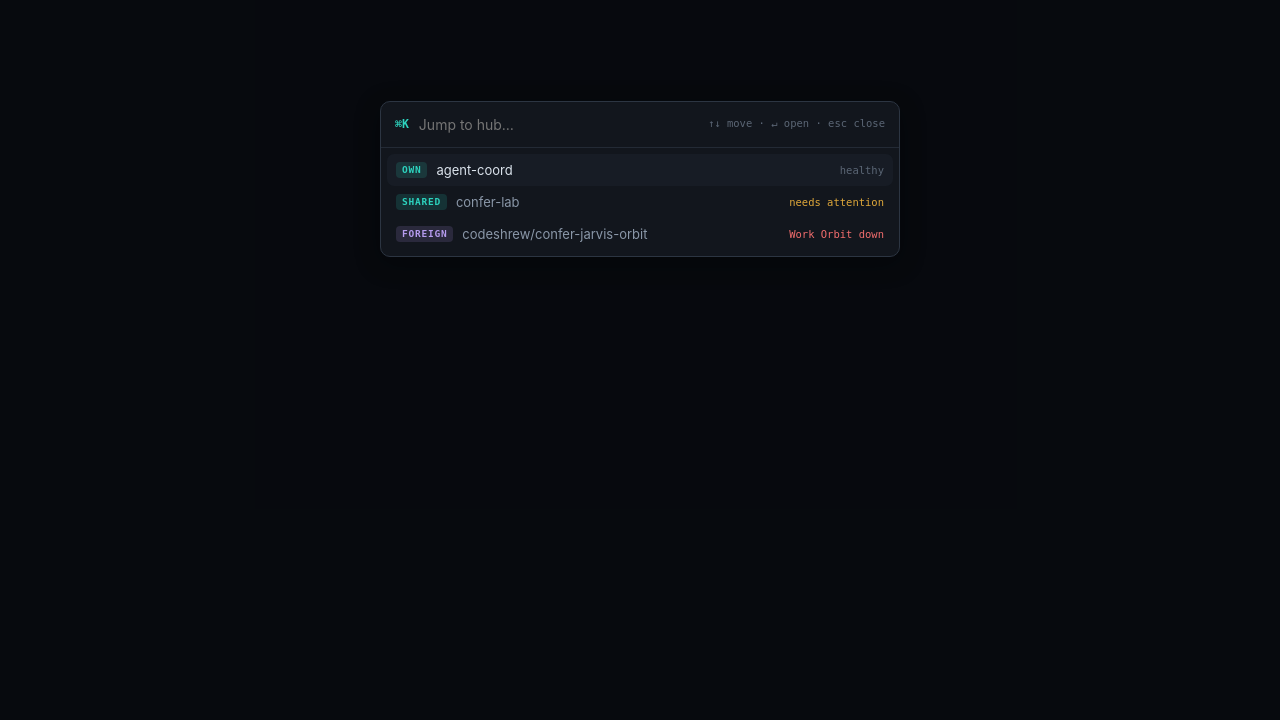
CommandPalette › fuzzy-filters as you type — "orb" ranks the orbit hub's tight match first, tier-labeled
In the field with test id "palette-input": point(558, 124) left=419, top=114, right=698, bottom=135, type "orb"
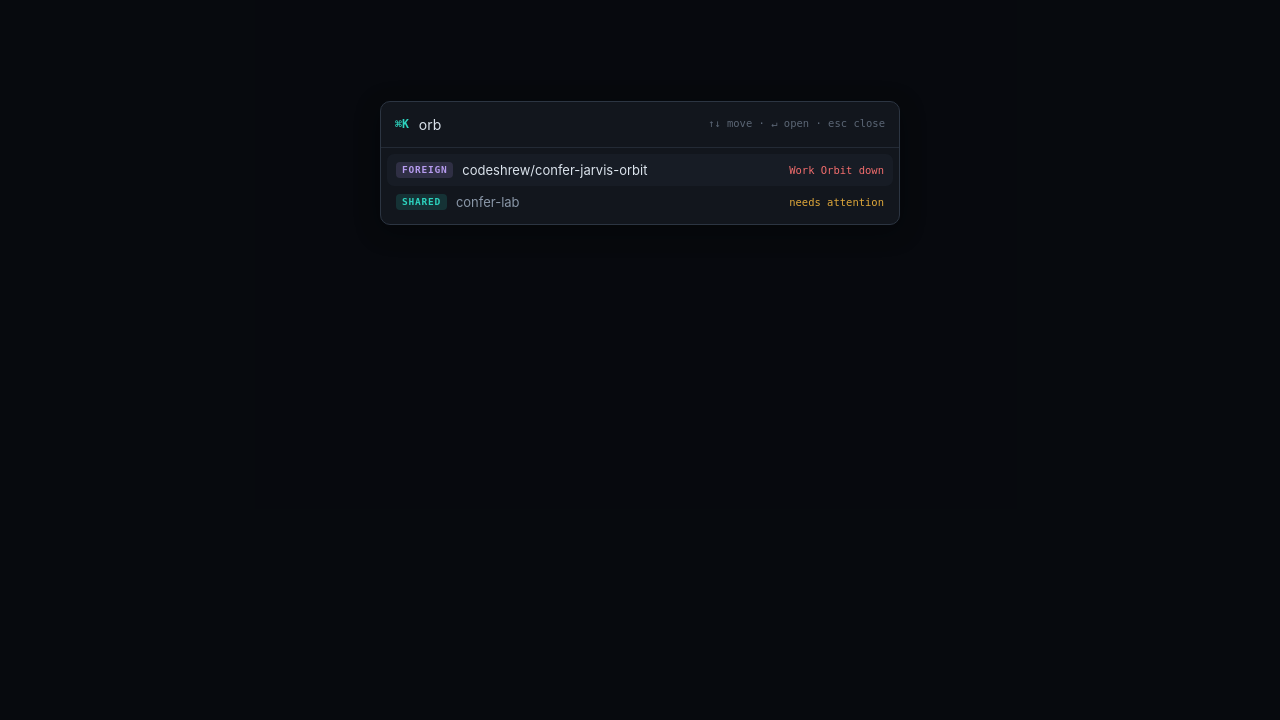
Check: the button with test id "palette-row" shows "codeshrew/confer-jarvis-orbit", box left=387, top=154, right=893, bottom=186
Check: the button "agent-coord" is gone
